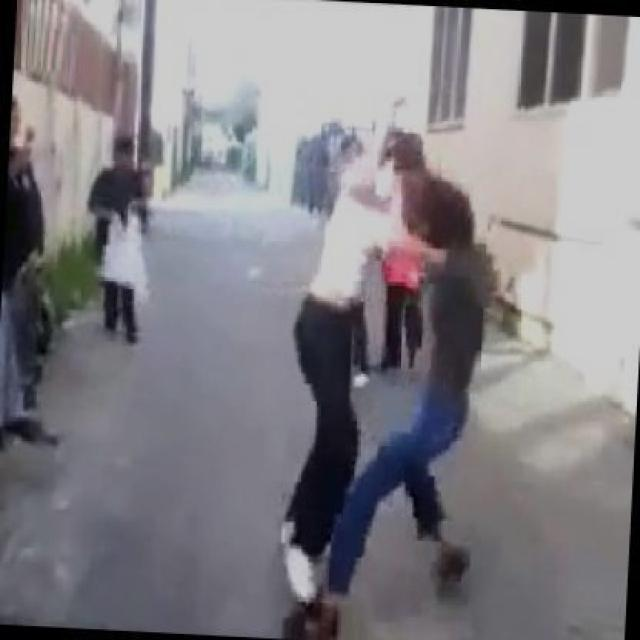fight: (229, 110, 529, 638)
non-fight: (0, 86, 71, 457), (69, 123, 169, 348)
